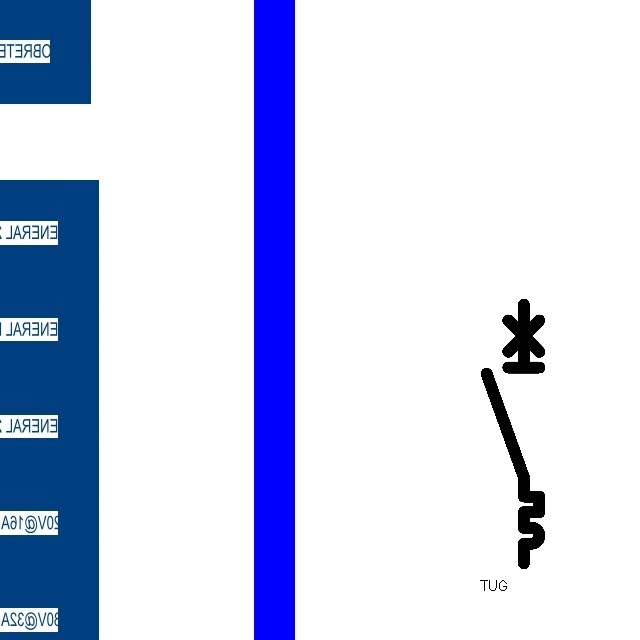interruptor_termomagnetico: (480, 298, 546, 570)
